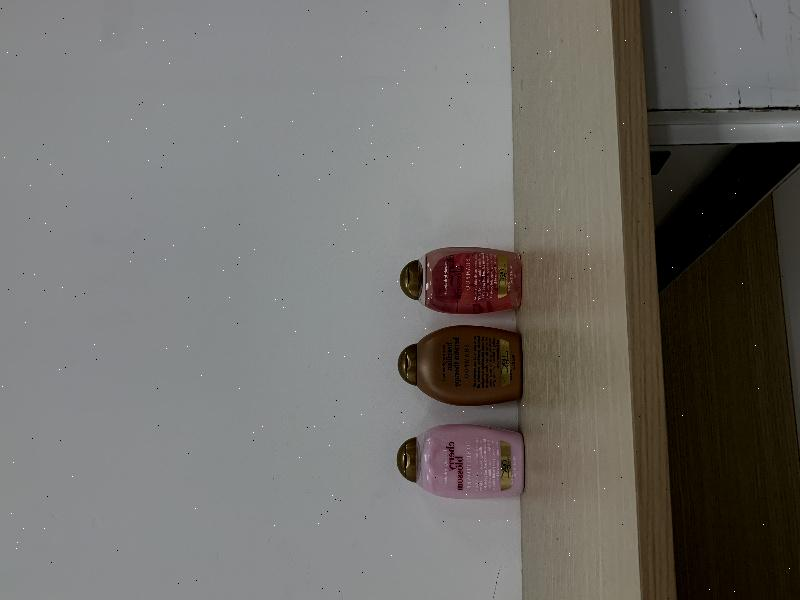BrazilianKeratinTherapy_Shampoo: (398, 325, 523, 406)
CherryBlossom_Conditioner: (397, 424, 525, 500)
CherryBlossom_Shampoo: (400, 247, 522, 315)
